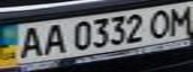0: (69, 18, 93, 52)
2: (124, 11, 151, 43)
3: (109, 12, 130, 46), (90, 16, 112, 48)
A: (12, 25, 48, 60), (36, 21, 69, 56)
M: (163, 3, 193, 36)
O: (145, 7, 175, 38)
